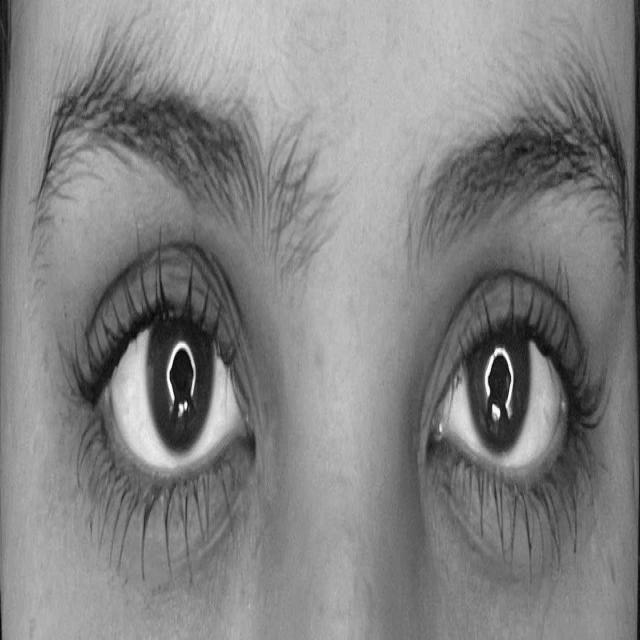real: (37, 82, 623, 587)
